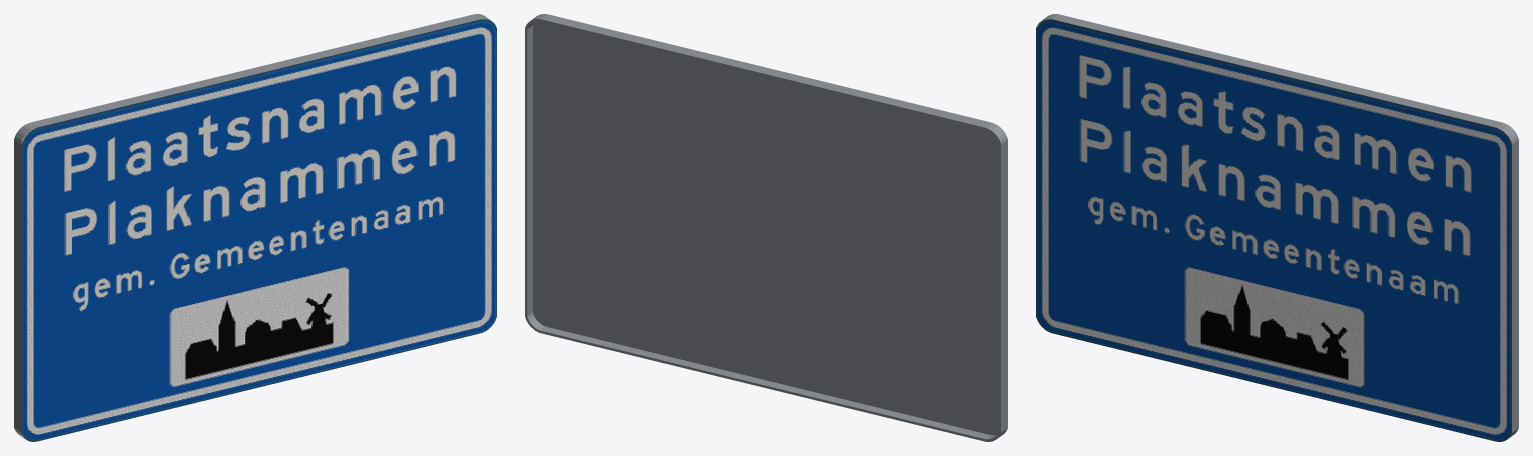
3 views of the same model, side by side, from view 1: azimuth 30°, elevation 25°; view 2: azimuth 150°, elevation 25°; view 3: azimuth 330°, elevation 25° (orthographic).
Parts seen in each view (by area): view 1: cat_59652078015120dd; view 2: cat_59652078015120dd; view 3: cat_59652078015120dd.
Part boxes in pixels (x1=…): cat_59652078015120dd: x1=14, y1=14, x2=496, y2=441; cat_59652078015120dd: x1=525, y1=14, x2=1007, y2=441; cat_59652078015120dd: x1=1036, y1=14, x2=1518, y2=441.
Bounding box in the file's own units: 0.6 × 0.015 × 0.3781.
2 materials, 1 textured.
